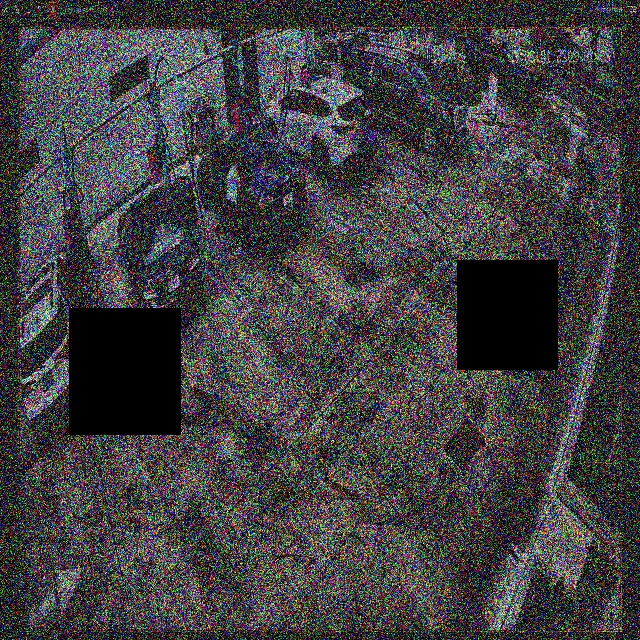Car: (195, 119, 305, 248), (117, 180, 201, 328), (260, 75, 370, 174)
